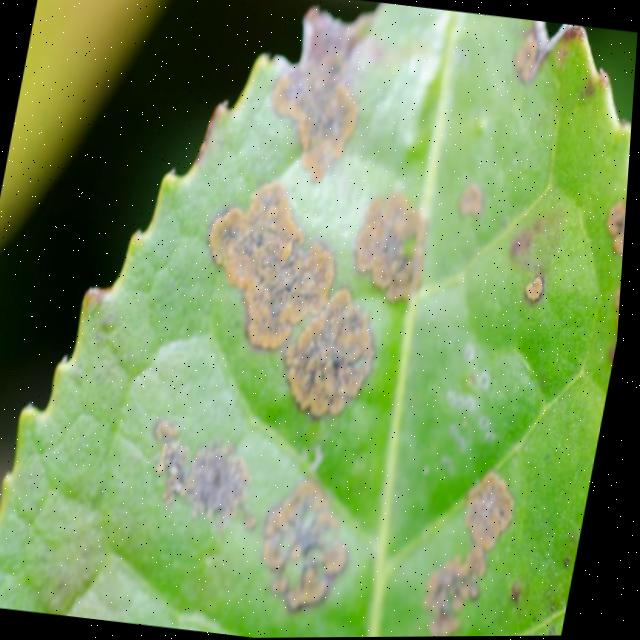Tea red rust: (181, 11, 636, 623)
